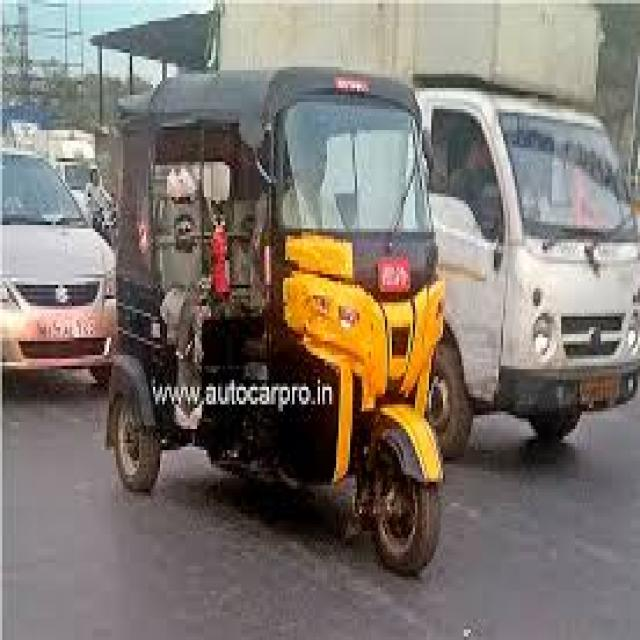car: (0, 151, 111, 383)
three wheeler: (107, 67, 443, 573)
truck: (415, 88, 638, 454)
